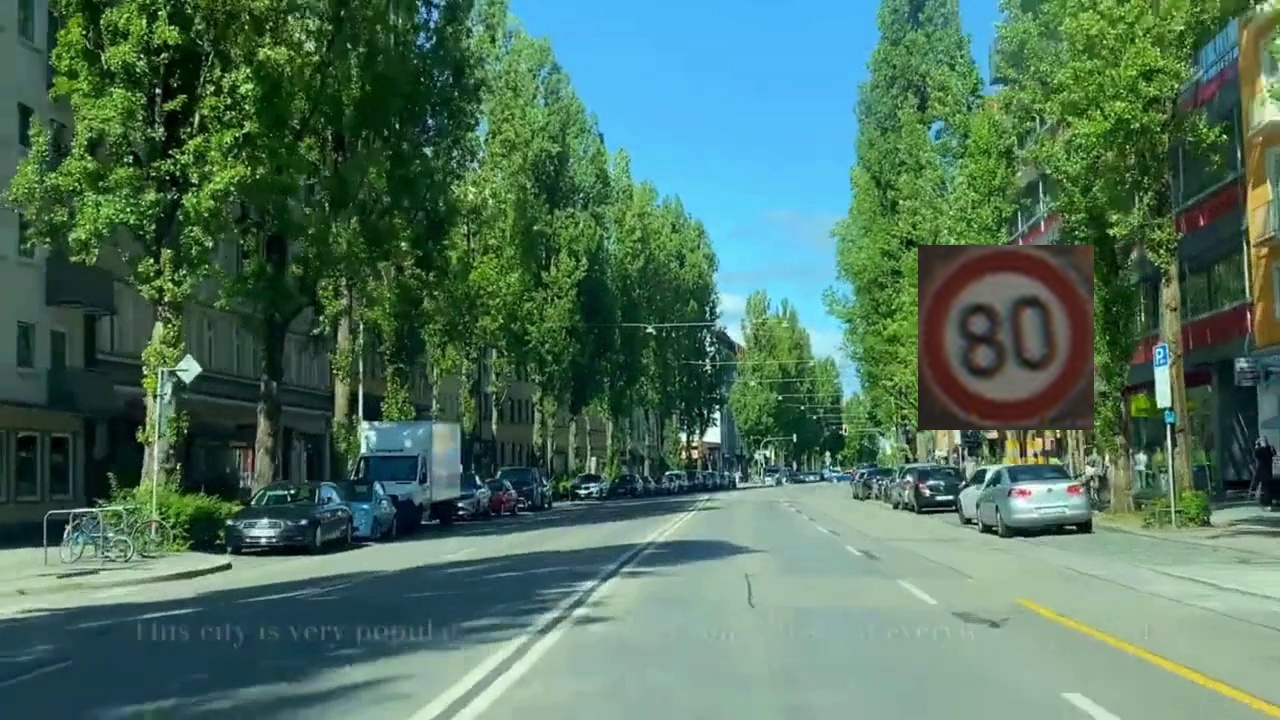Speed 80: (918, 245, 1094, 430)
